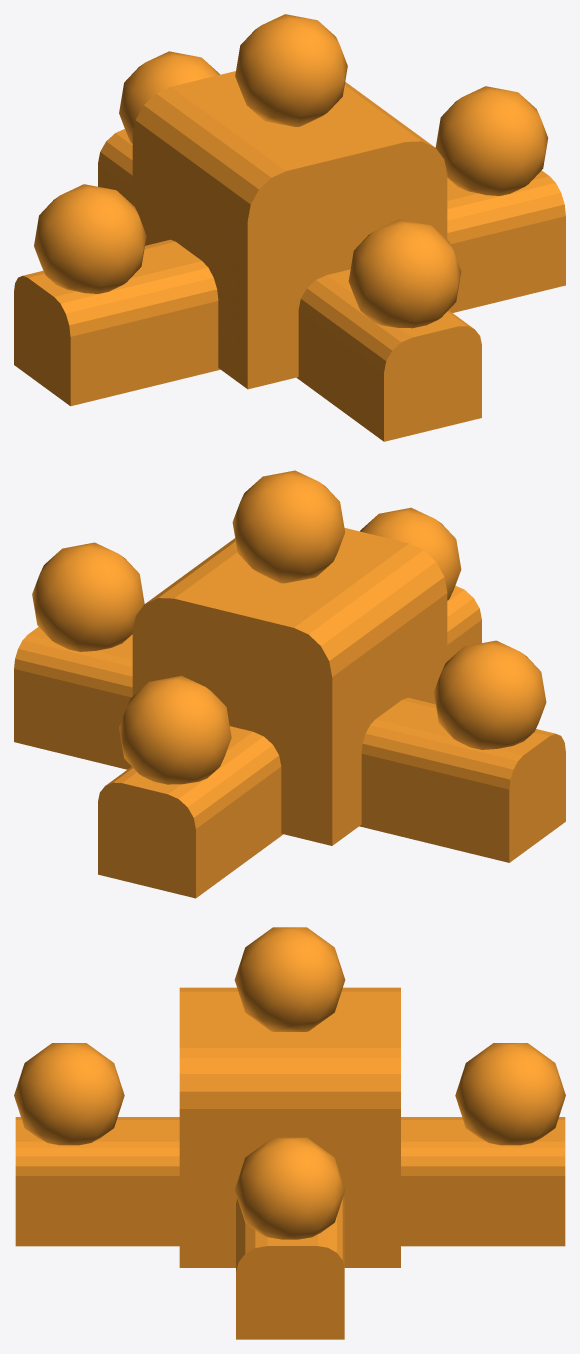
Rendered from sand_castle.glb.
3 views of the same model, one above another, from view 1: azimuth 30°, elevation 25°; view 2: azimuth 150°, elevation 25°; view 3: azimuth 270°, elevation 25° (orthographic). The views are drawn at different scales.
Visible parts, largest first — view 1: Cube, Cube.001, Cube.002, Icosphere.004, Icosphere.003, Icosphere.001, Icosphere.002, Icosphere; view 2: Cube, Cube.001, Cube.002, Icosphere.004, Icosphere, Icosphere.003, Icosphere.002, Icosphere.001; view 3: Cube, Cube.002, Cube.001, Icosphere.004, Icosphere.002, Icosphere, Icosphere.001.
Boxes of the visible parts, bbox=[...] form: Cube: bbox=[132, 71, 447, 389]; Cube.001: bbox=[14, 170, 565, 406]; Cube.002: bbox=[98, 129, 481, 441]; Icosphere.004: bbox=[235, 14, 347, 126]; Icosphere.003: bbox=[34, 184, 146, 293]; Icosphere.001: bbox=[348, 219, 461, 328]; Icosphere.002: bbox=[435, 86, 548, 195]; Icosphere: bbox=[119, 51, 219, 143]; Cube: bbox=[132, 527, 447, 845]; Cube.001: bbox=[14, 626, 565, 862]; Cube.002: bbox=[98, 585, 481, 898]; Icosphere.004: bbox=[232, 470, 345, 583]; Icosphere: bbox=[119, 675, 231, 784]; Icosphere.003: bbox=[434, 640, 546, 749]; Icosphere.002: bbox=[32, 542, 144, 651]; Icosphere.001: bbox=[360, 507, 461, 600]; Cube: bbox=[179, 987, 400, 1267]; Cube.002: bbox=[15, 1117, 565, 1246]; Cube.001: bbox=[236, 1196, 344, 1339]; Icosphere.004: bbox=[234, 927, 345, 1031]; Icosphere.002: bbox=[234, 1137, 345, 1239]; Icosphere: bbox=[455, 1043, 565, 1145]; Icosphere.001: bbox=[14, 1043, 124, 1145].
Bounding box in the file's own units: 4.98 × 2.93 × 4.99.
